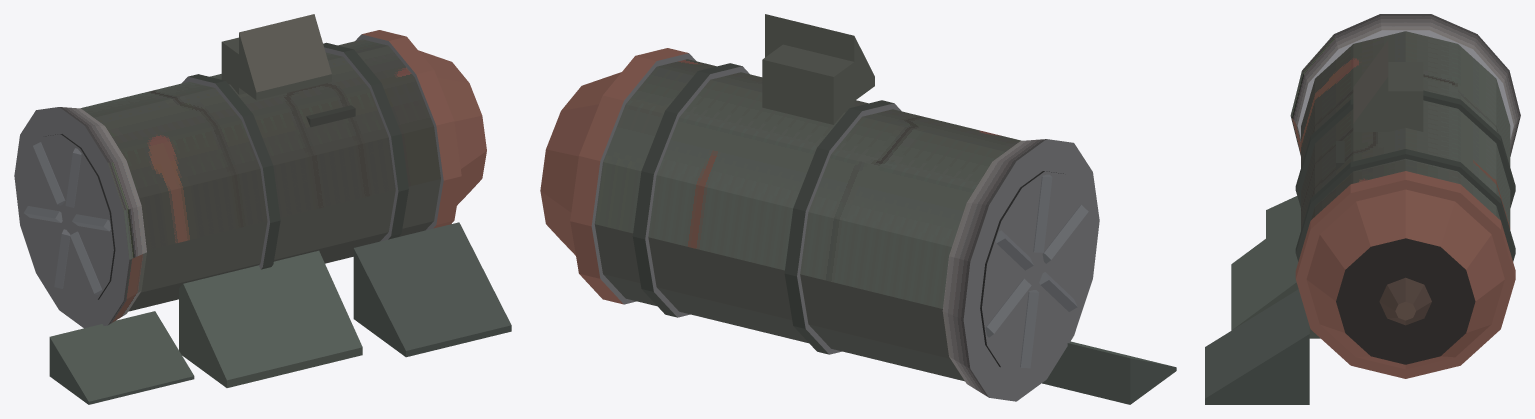
The model's file is Building_AncientJetEngine.glb.
The picture shows the model from 3 angles, left to right: view 1: azimuth 30°, elevation 25°; view 2: azimuth 150°, elevation 25°; view 3: azimuth 270°, elevation 25°; orthographic projection. The views are drawn at different scales.
Visible parts, largest first — view 1: AncientJetEngine; view 2: AncientJetEngine; view 3: AncientJetEngine.
Part boxes in pixels (x1,y1,x2,y2): AncientJetEngine: [14, 14, 511, 404]; AncientJetEngine: [540, 14, 1176, 404]; AncientJetEngine: [1205, 14, 1520, 404].
Bounding box in the file's own units: 3 × 1.75 × 1.81.
1 material, 1 textured.
